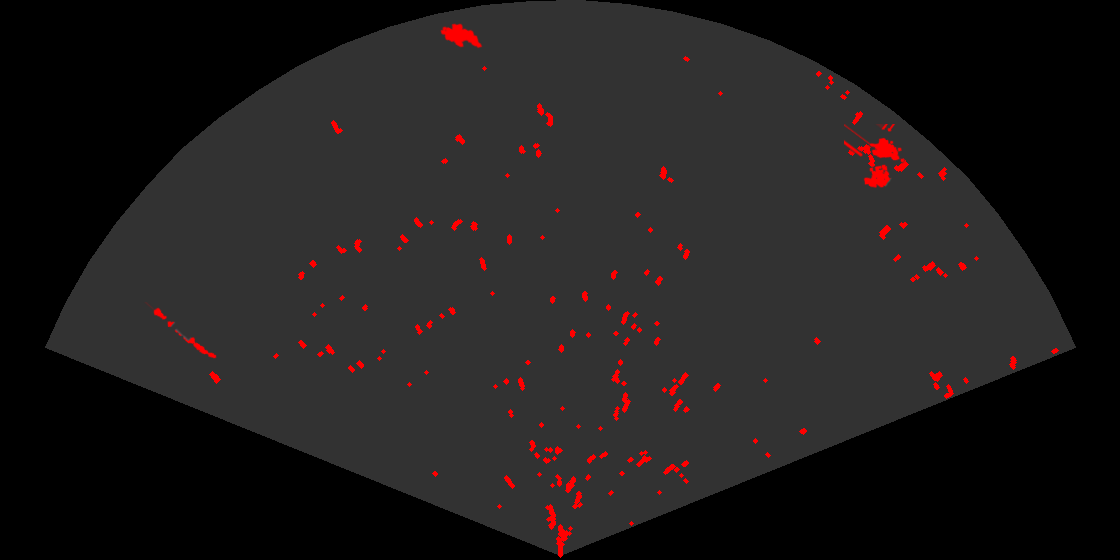AUV: (439, 22, 484, 50)
cage: (844, 124, 906, 190)
chain: (143, 302, 218, 360)
